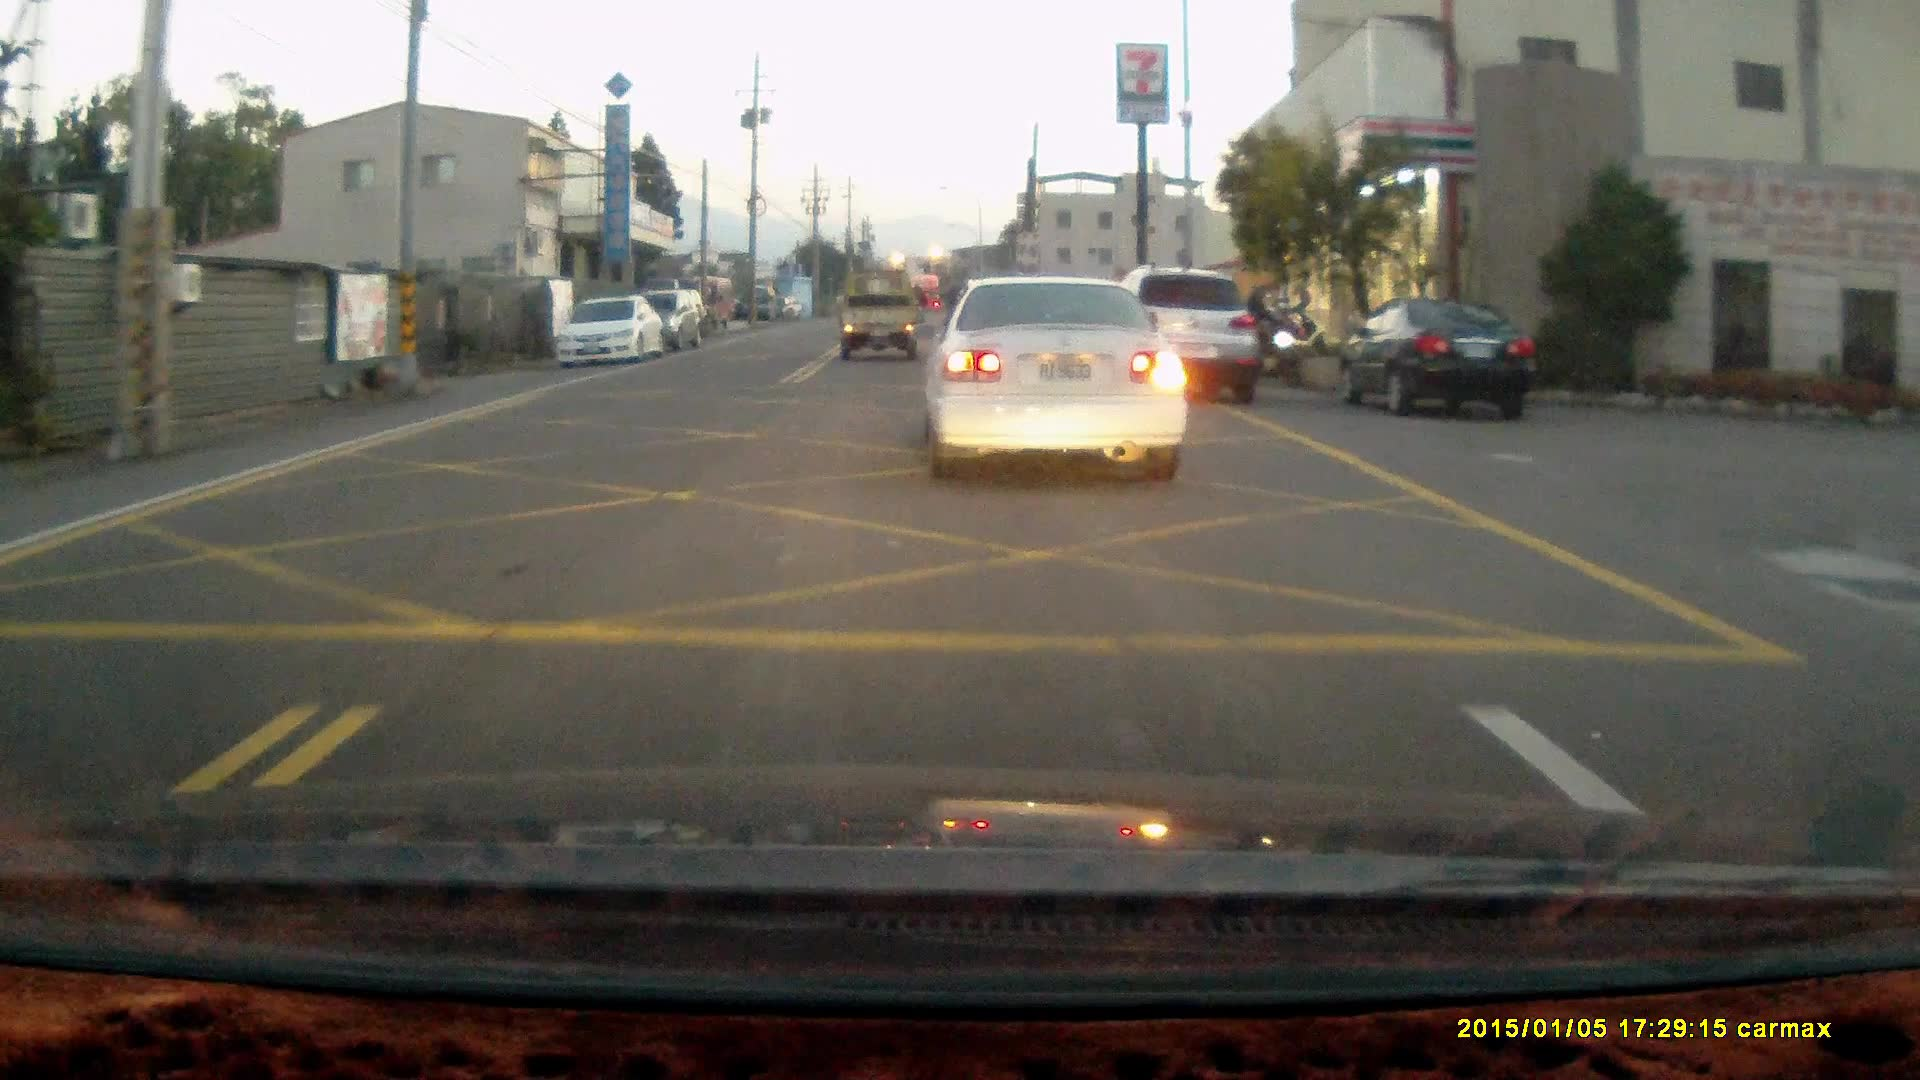rider: (1233, 280, 1306, 386)
vehicle: (933, 272, 1192, 494), (1328, 289, 1540, 420), (1117, 261, 1264, 399), (551, 283, 661, 366), (842, 264, 930, 356), (638, 290, 704, 354)
